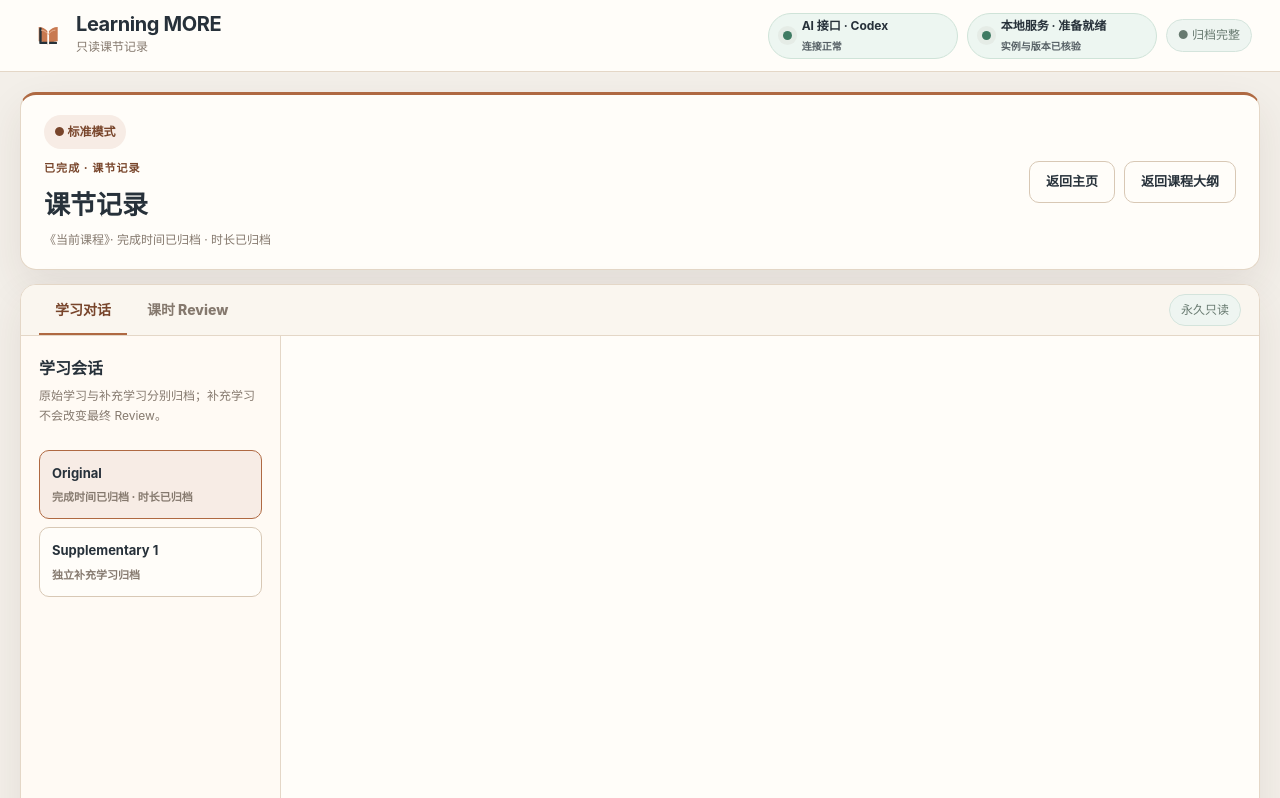
Scenario: lesson history record › shows a visible thinking state before the first supplementary stream segment arrives
This screenshot has width=1280, height=798.
Click the button "Supplementary 1 独立补充学习归档". click: (150, 562)
box: [39,528,262,597]
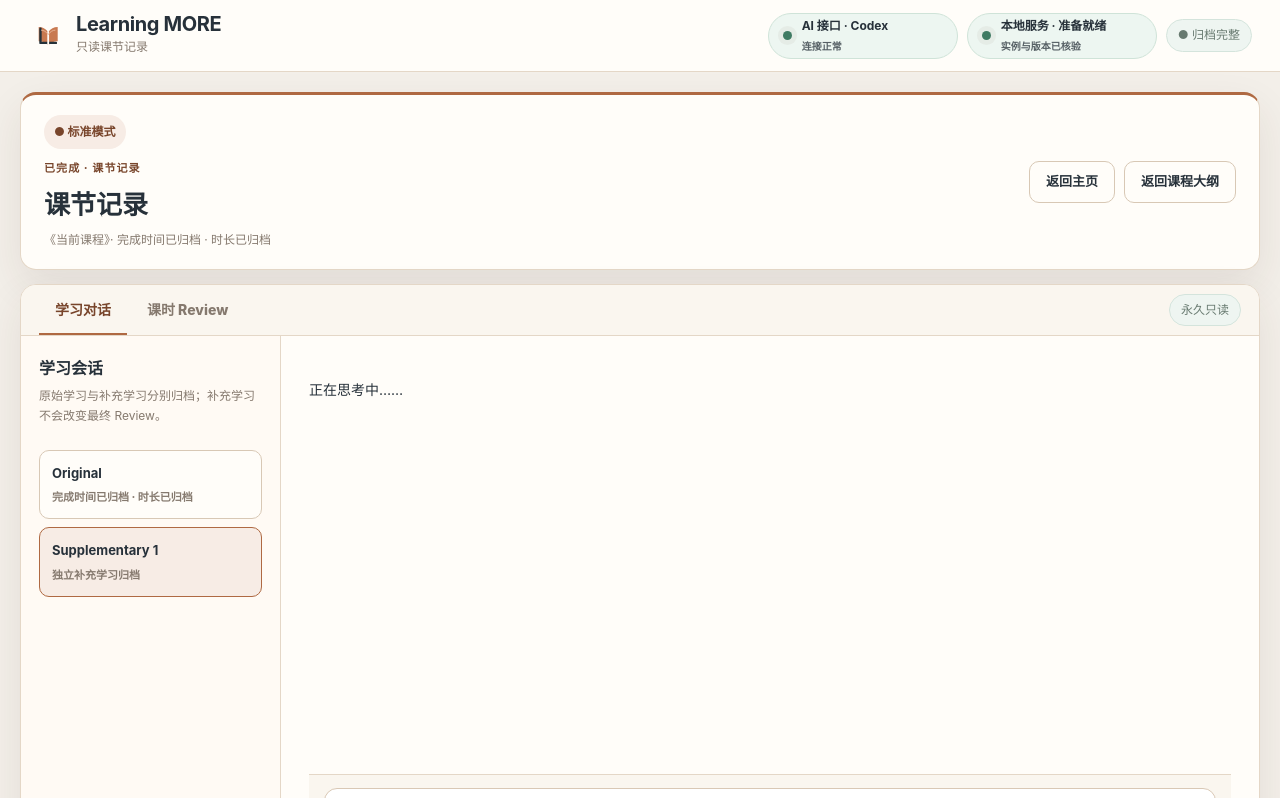
Result: the message reads "正在思考中……" at [309,380,403,398]
